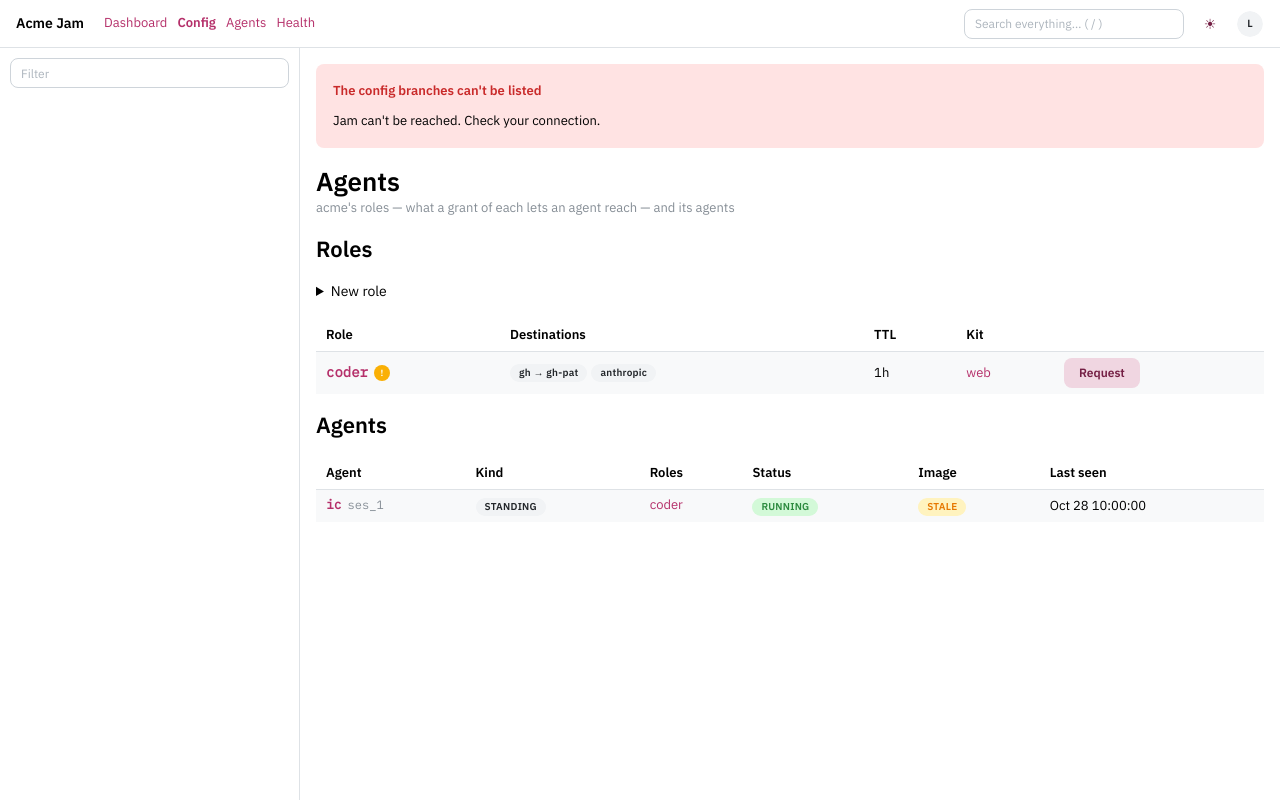
Test: a project's agents › shows a refused request
This screenshot has width=1280, height=800.
Click the button "Request" at (1102, 373), box [1064, 358, 1140, 388]
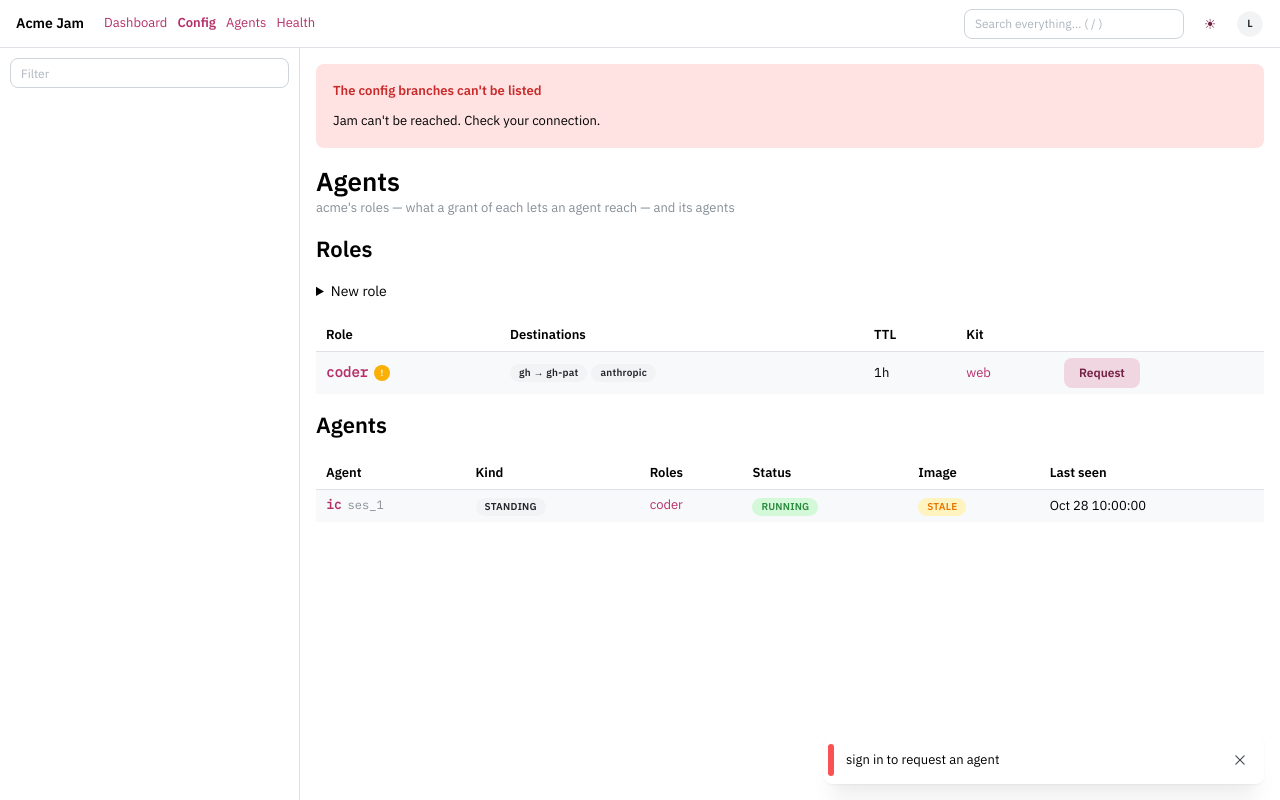
Expected: the text "sign in to request an agent" is shown, [846, 751, 1000, 768]
